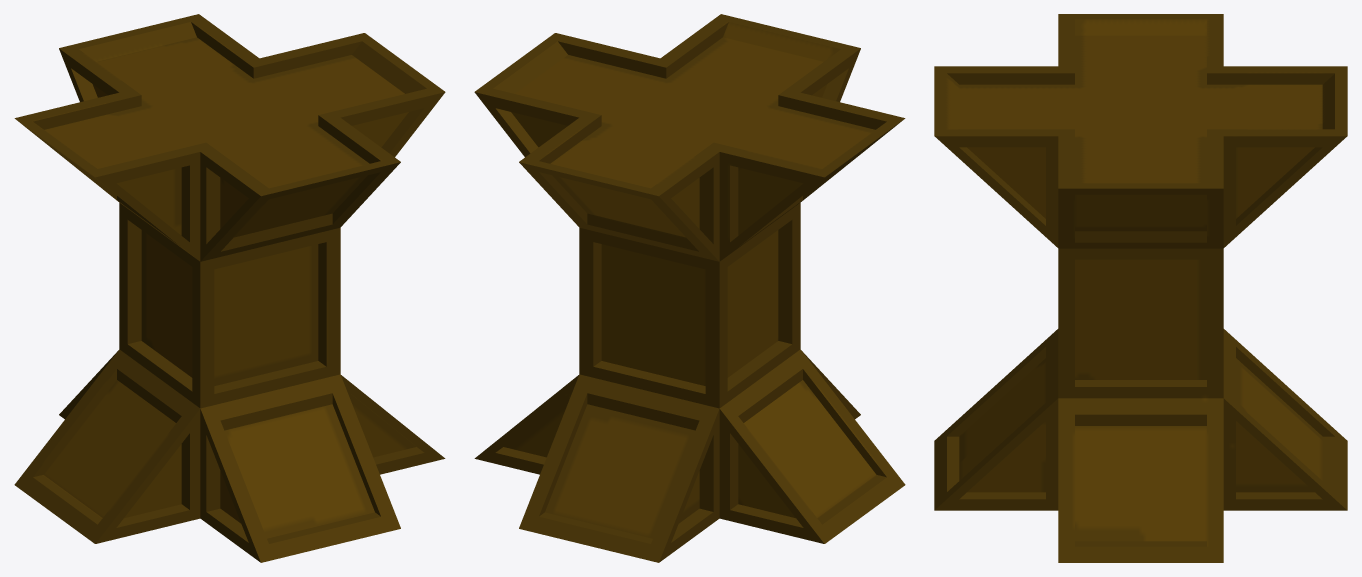
Rendered from Dirt.fbx.
3 renders of one model, left to right at view 1: azimuth 30°, elevation 25°; view 2: azimuth 150°, elevation 25°; view 3: azimuth 270°, elevation 25°, orthographic. The views are drawn at different scales.
Visible parts, largest first — view 1: Dirt; view 2: Dirt; view 3: Dirt.
Part boxes in pixels (x1,y1,x2,y2): Dirt: [14, 14, 445, 562]; Dirt: [474, 14, 905, 562]; Dirt: [934, 14, 1347, 562].
Size of the model in its own units: 1 by 1 by 1.
1 material, 1 textured.
